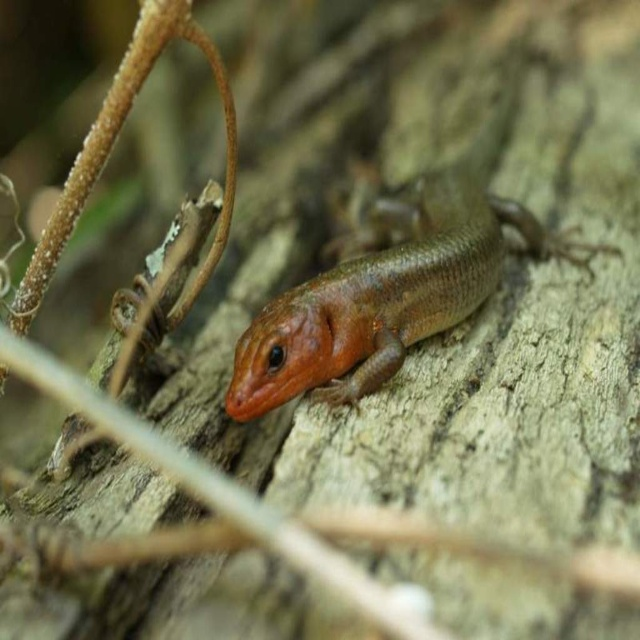Lizard: (212, 172, 598, 462)
